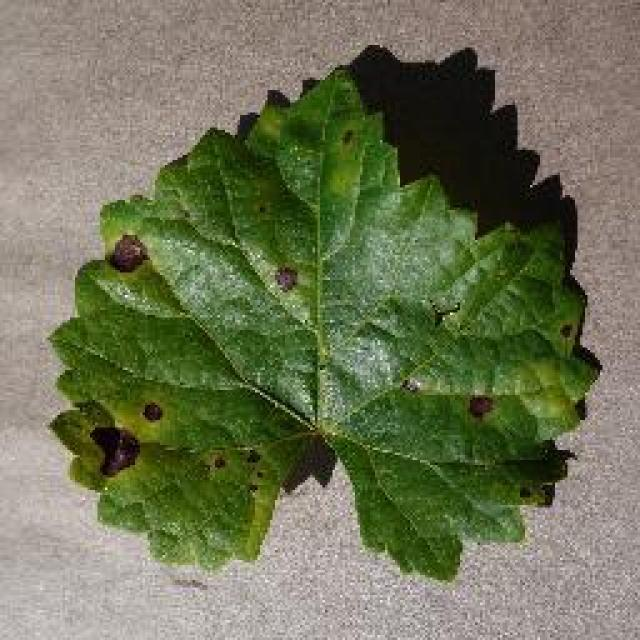Grape___Black_rot: (41, 65, 604, 586)
